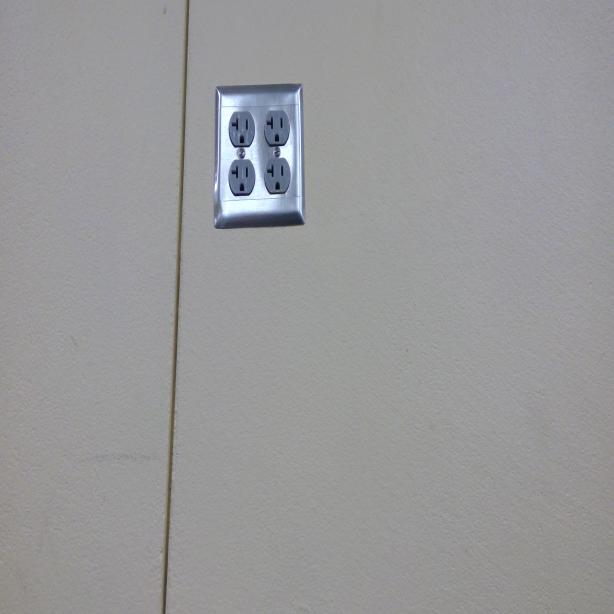typeb: (230, 106, 255, 145), (264, 108, 290, 144), (228, 158, 255, 192), (266, 158, 290, 192)
